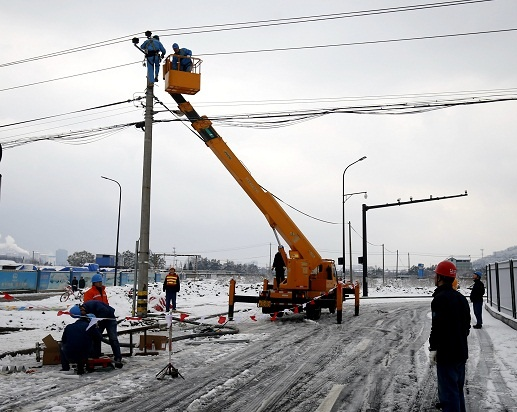blue: (69, 303, 86, 318), (90, 273, 104, 288), (471, 269, 482, 281)
red: (431, 259, 459, 288)
yellow: (169, 265, 176, 273)
